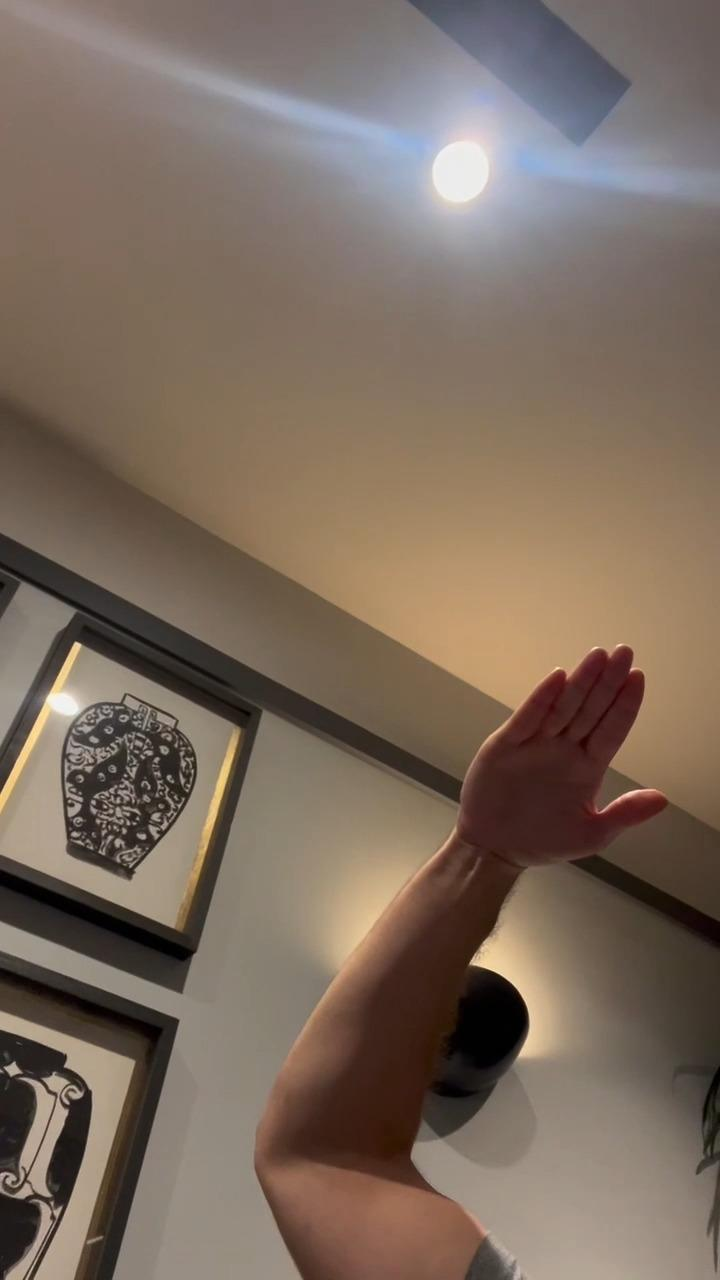Paper: (452, 638, 673, 875)
